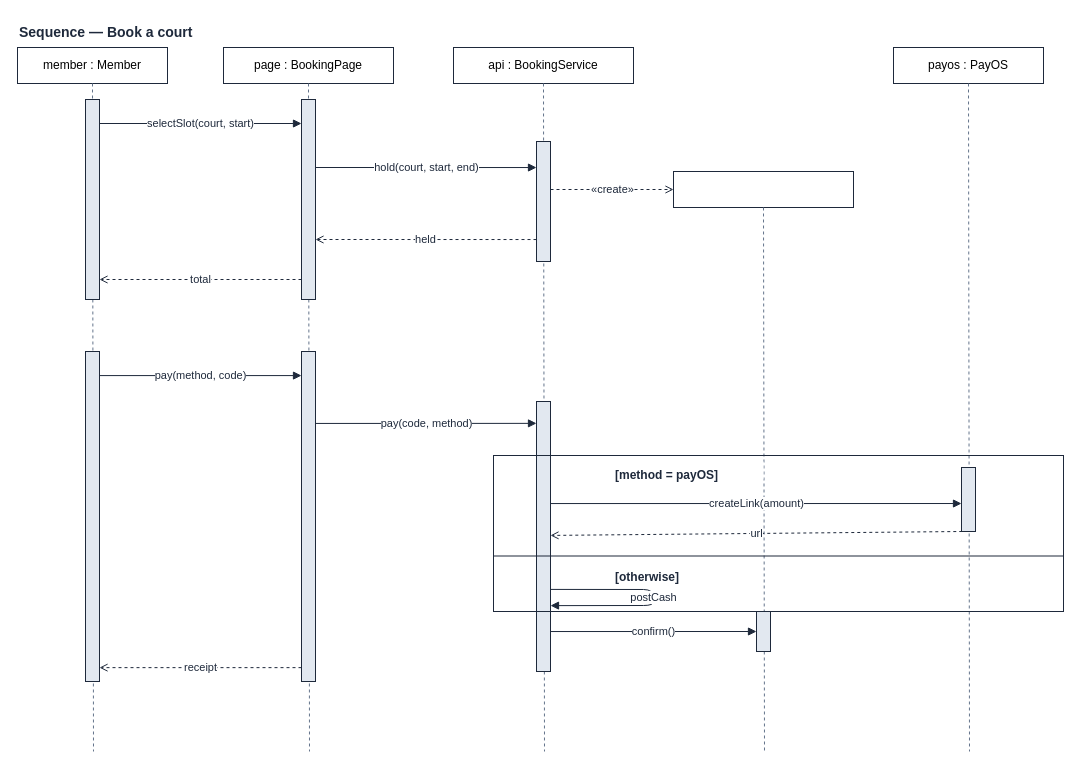
The diagram is 1081 pixels wide and 771 high, and some of its shapes have lost their labels. Here are the shapes that lost their labels. From the top down, the box of each, then its label:
(672, 170, 854, 208): booking : CourtBooking
(492, 454, 1064, 612): alt
